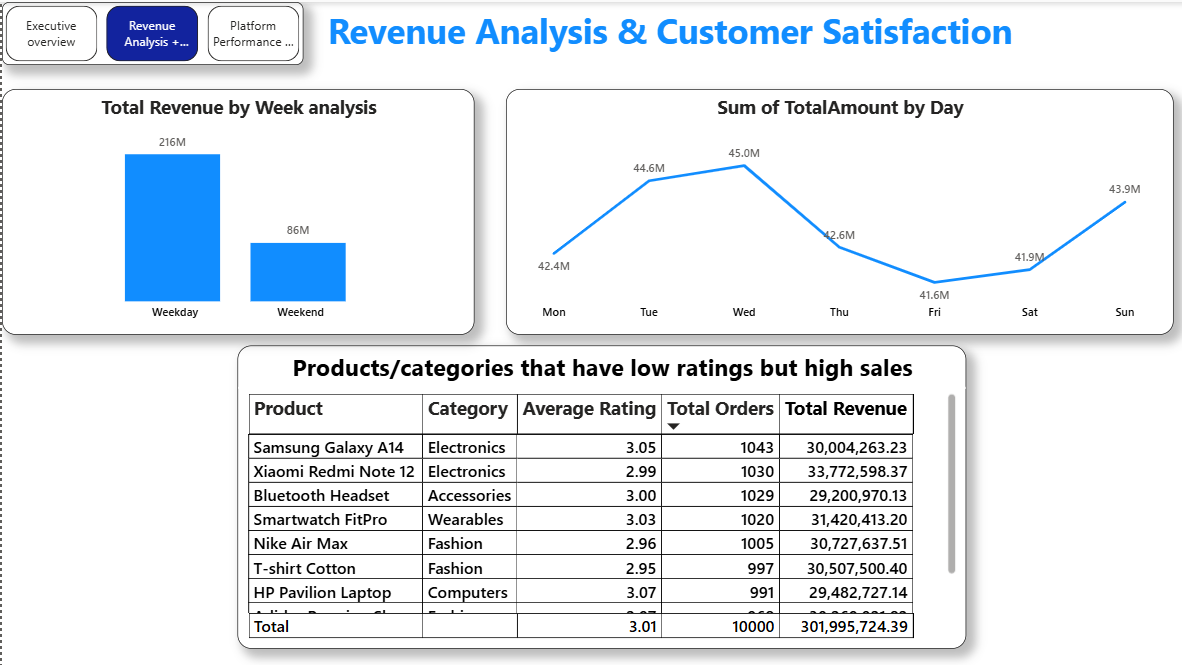

Layout of this report page (visuals, bound fields, positions):
{"tool":"powerbi","page":{"name":"Revenue Analysis + Customer Satisfaction ","canvas":[1280,720],"ordinal":1},"visuals":[{"type":"lineChart","fields":{"Y":["Sum(EcommerceData.TotalAmount)"],"Category":["EcommerceData.Day"]},"box":[544.3,0,720,289.1],"z":0},{"type":"clusteredBarChart","fields":{"Category":["EcommerceData.Platform"],"Y":["EcommerceData.Average Rating"]},"box":[0,355.3,517.8,364.7],"z":1000},{"type":"tableEx","title":"Products/categories that have low ratings but high sales","fields":{"Values":["EcommerceData.Product","EcommerceData.Category","EcommerceData.Average Rating","EcommerceData.Total Orders","EcommerceData.Total Revenue"]},"box":[544.3,304.3,735.1,415.8],"z":2000},{"type":"columnChart","fields":{"Category":["EcommerceData.Week analysis"],"Y":["EcommerceData.Total Revenue"]},"box":[0,20.8,510.2,313.7],"z":3000}]}

Visuals, with their boxes on the page's 1280x720 design canvas (x1, y1, x2, y2). These are canvas units, not pixel positions in the 1182x665 screenshot, which may show the page scaled, cropped or inside an application window:
lineChart - Sum(EcommerceData.TotalAmount) x EcommerceData.Day: <bbox>544, 0, 1264, 289</bbox>
clusteredBarChart - EcommerceData.Platform x EcommerceData.Average Rating: <bbox>0, 355, 518, 720</bbox>
"Products/categories that have low ratings but high sales" tableEx: <bbox>544, 304, 1279, 720</bbox>
columnChart - EcommerceData.Week analysis x EcommerceData.Total Revenue: <bbox>0, 21, 510, 334</bbox>
